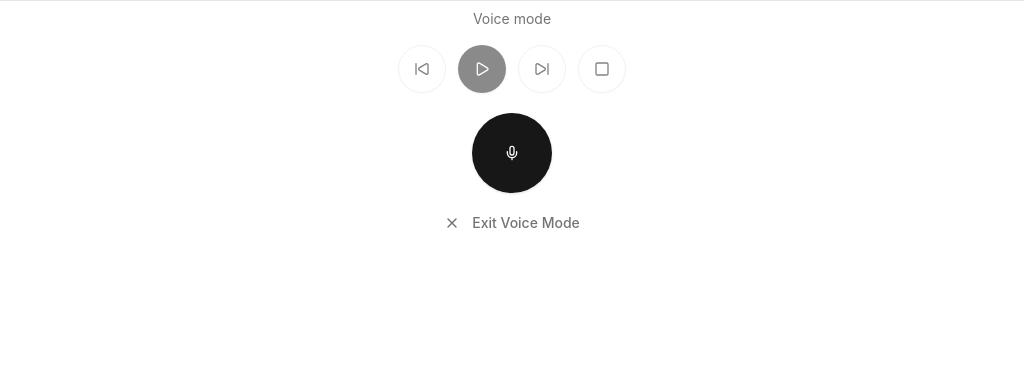
VoiceControlPanel send-failure handling › manual send: restores the transcript and shows an error when the send rejects
Click the button named "start recording": (512, 153) [472,113,552,193]
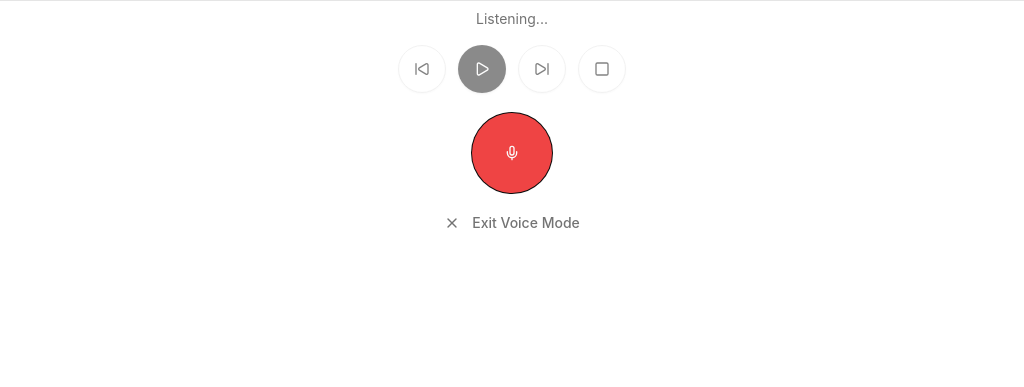
Click the button named "stop recording": (512, 153) [472,113,552,193]
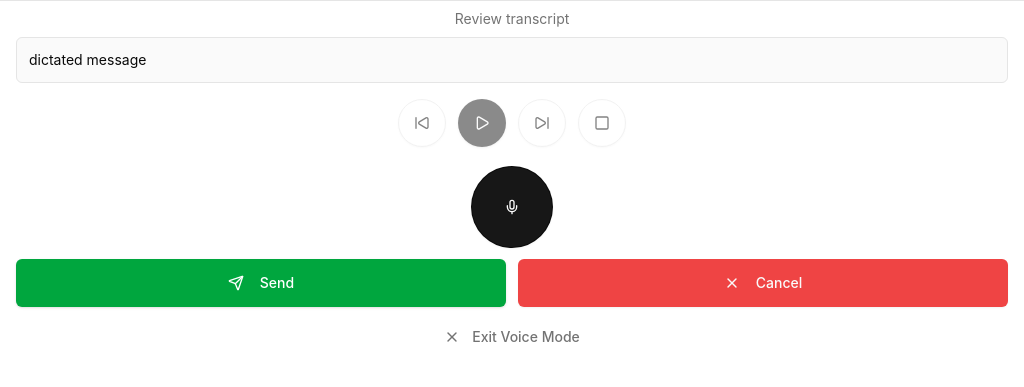
Now the text "dictated message" is shown, box [29,51,146,68]
Click the button "Send": (261, 283) [16,259,506,307]
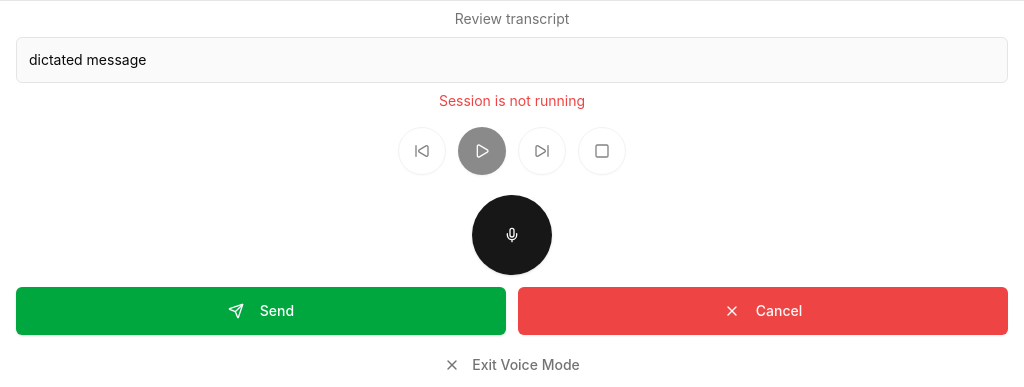
Now the text "dictated message" is shown, box [29,51,146,68]
Now the text "Session is not running" is shown, box [439,92,585,109]
